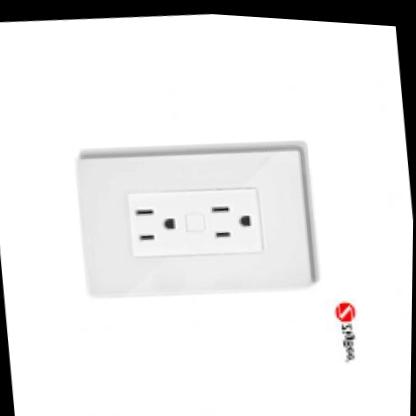OUTLET: (72, 132, 318, 309)
